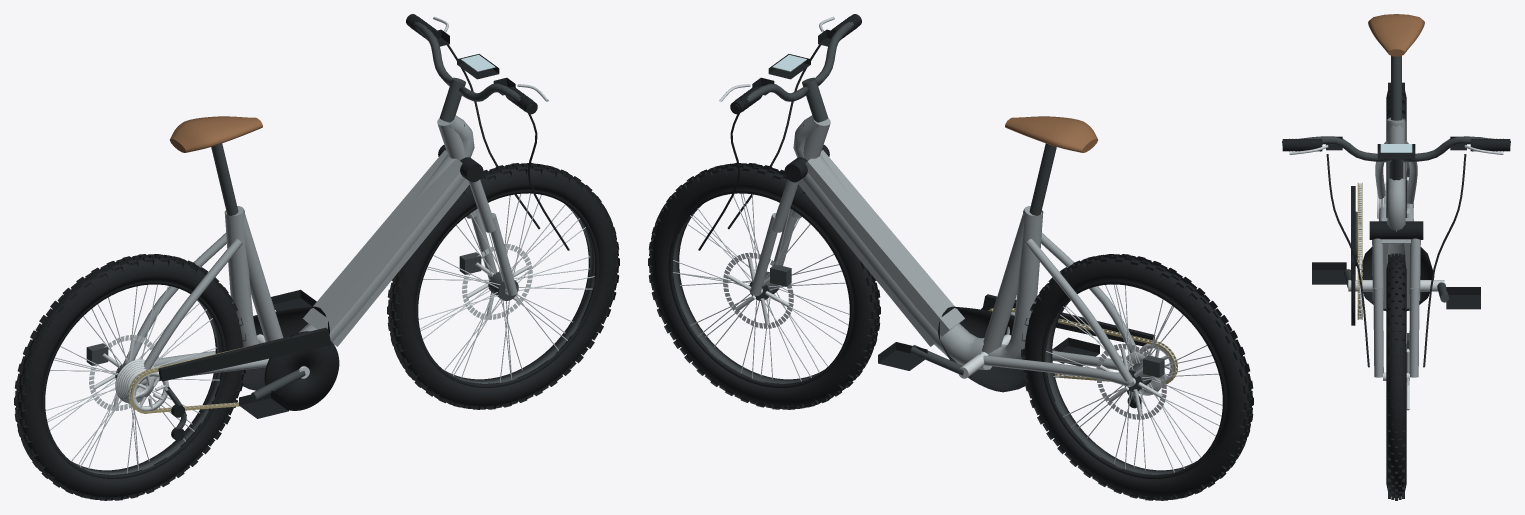
File: cannondale-adventure-neo.glb
The picture shows the model from 3 angles, left to right: view 1: azimuth 30°, elevation 25°; view 2: azimuth 150°, elevation 25°; view 3: azimuth 270°, elevation 25°; orthographic projection. The views are drawn at different scales.
Parts seen in each view (by area): view 1: RearWheel | rubber, FrontWheel | rubber, BatteryMount | grey, Chassis | grey, Drive | black, FrontWheel | steel, RearWheel | steel, FrontWheel | black, RearWheel | black, FrontWheel | graphite, Bodywork | seat, Fork | grey (+9 smaller); view 2: RearWheel | rubber, FrontWheel | rubber, BatteryMount | grey, Chassis | grey, FrontWheel | steel, RearWheel | steel, FrontWheel | black, RearWheel | black, Drive | black, Bodywork | seat, RearWheel | graphite, FrontWheel | graphite (+8 smaller); view 3: FrontWheel | rubber, Fork | grey, Chassis | grey, Drive | black, Cockpit | rubber, Bodywork | seat, Cockpit | graphite, Drive | steel, Cockpit | black, BatteryMount | grey, Fork | black, MotorMount | black (+6 smaller).
Part boxes in pixels (left/top/right/bottom): RearWheel | rubber: left=14, top=254, right=246, bottom=500; FrontWheel | rubber: left=387, top=163, right=619, bottom=409; BatteryMount | grey: left=298, top=150, right=469, bottom=346; Chassis | grey: left=123, top=115, right=474, bottom=386; Drive | black: left=158, top=289, right=339, bottom=440; FrontWheel | steel: left=418, top=193, right=594, bottom=382; RearWheel | steel: left=45, top=284, right=219, bottom=473; FrontWheel | black: left=415, top=190, right=599, bottom=387; RearWheel | black: left=42, top=281, right=225, bottom=478; FrontWheel | graphite: left=445, top=205, right=595, bottom=383; Bodywork | seat: left=170, top=116, right=262, bottom=152; Fork | grey: left=466, top=179, right=517, bottom=295; RearWheel | rubber: left=1021, top=254, right=1253, bottom=500; FrontWheel | rubber: left=648, top=163, right=880, bottom=409; BatteryMount | grey: left=798, top=150, right=991, bottom=369; Chassis | grey: left=793, top=115, right=1137, bottom=386; FrontWheel | steel: left=673, top=193, right=849, bottom=381; RearWheel | steel: left=1046, top=284, right=1222, bottom=472; FrontWheel | black: left=668, top=190, right=852, bottom=387; RearWheel | black: left=1041, top=281, right=1225, bottom=478; Drive | black: left=878, top=294, right=1155, bottom=408; Bodywork | seat: left=1005, top=116, right=1097, bottom=152; RearWheel | graphite: left=1045, top=299, right=1196, bottom=474; FrontWheel | graphite: left=672, top=204, right=823, bottom=383; FrontWheel | rubber: left=1386, top=253, right=1406, bottom=500; Fork | grey: left=1372, top=238, right=1420, bottom=377; Chassis | grey: left=1375, top=117, right=1417, bottom=231; Drive | black: left=1312, top=186, right=1480, bottom=325; Cockpit | rubber: left=1282, top=139, right=1510, bottom=367; Bodywork | seat: left=1368, top=14, right=1424, bottom=56; Cockpit | graphite: left=1282, top=136, right=1510, bottom=180; Drive | steel: left=1348, top=183, right=1444, bottom=319; Cockpit | black: left=1289, top=136, right=1503, bottom=159; BatteryMount | grey: left=1382, top=218, right=1410, bottom=308; Fork | black: left=1369, top=221, right=1423, bottom=239; MotorMount | black: left=1361, top=247, right=1434, bottom=310.
Size of the model in its own units: 1.9 by 1.07 by 0.6634.
